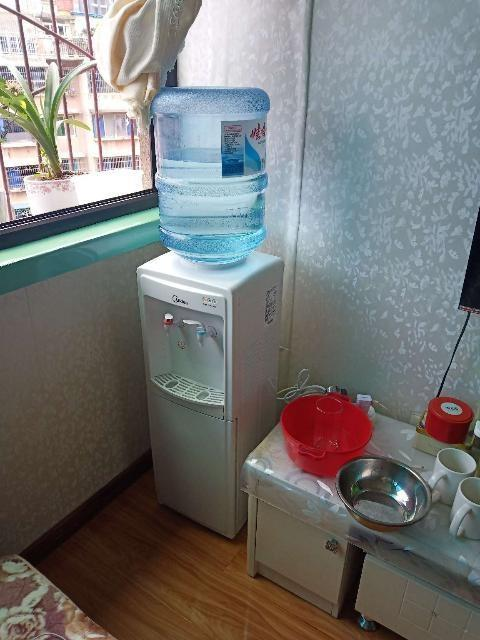Dispenser: (133, 85, 285, 539)
